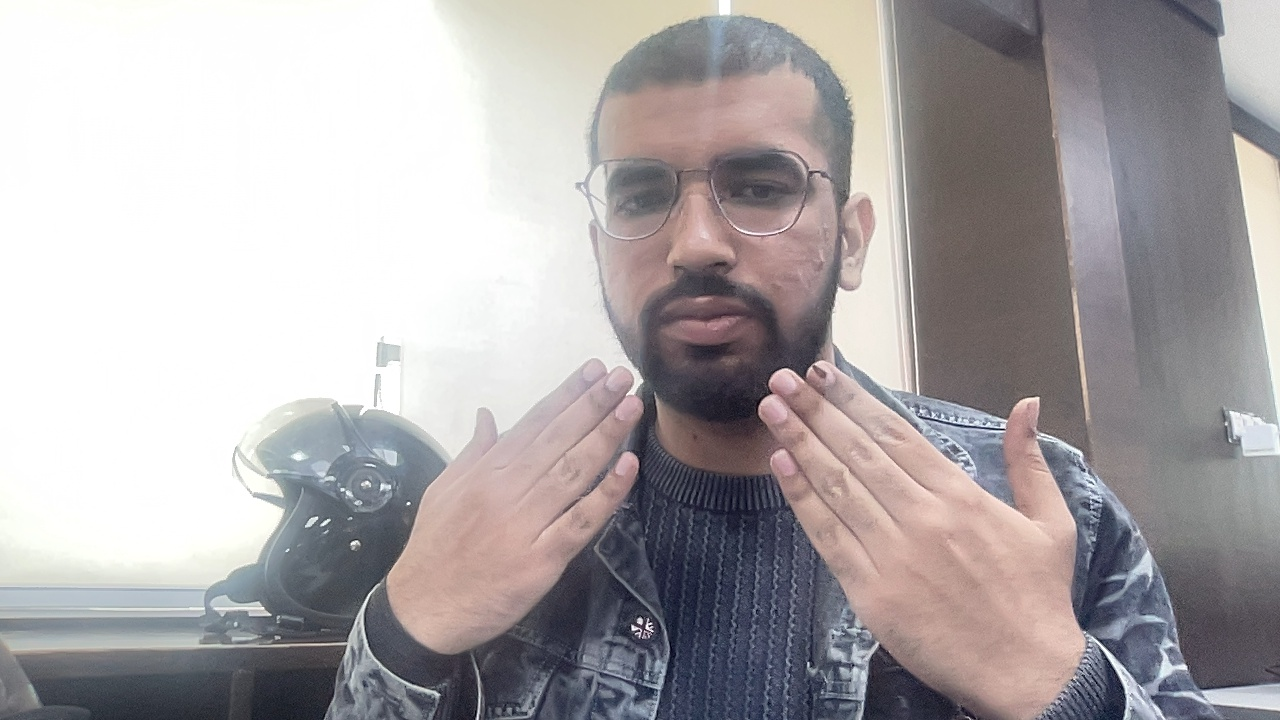Thank You: (279, 322, 1115, 700)
